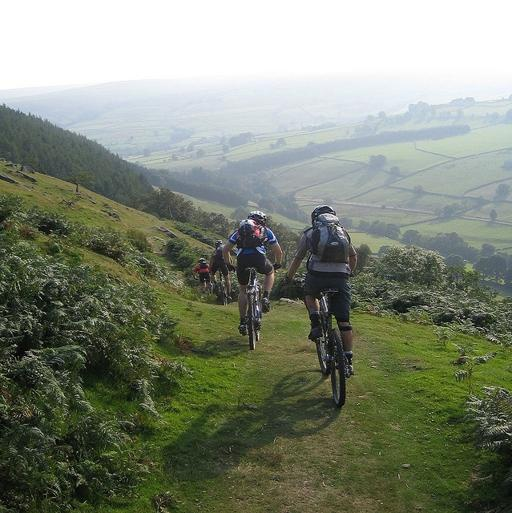non-vehicle: (285, 274, 353, 407), (228, 261, 279, 348)
